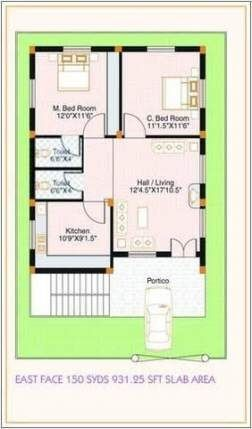door: (120, 103, 151, 138), (80, 102, 108, 138), (78, 199, 111, 229), (167, 230, 198, 261), (60, 168, 86, 200), (59, 132, 85, 160)
room: (106, 136, 209, 259), (29, 46, 123, 139), (118, 48, 208, 139), (31, 202, 113, 276), (30, 164, 87, 202), (33, 135, 84, 169)
wall: (27, 106, 40, 223), (26, 263, 115, 278), (112, 46, 125, 138), (148, 131, 202, 147), (90, 41, 149, 55), (108, 203, 119, 277), (25, 43, 43, 81), (197, 107, 211, 155), (32, 160, 85, 172), (29, 193, 86, 204), (173, 42, 209, 58), (198, 235, 210, 275), (22, 246, 39, 274), (197, 44, 208, 84), (26, 43, 63, 54), (28, 132, 61, 143), (108, 249, 131, 262), (154, 248, 173, 260), (201, 182, 208, 211)
window: (129, 246, 161, 264), (197, 207, 211, 239), (147, 41, 176, 56), (28, 79, 42, 110), (196, 151, 209, 184), (197, 77, 211, 106), (27, 216, 38, 250), (61, 44, 92, 55)
